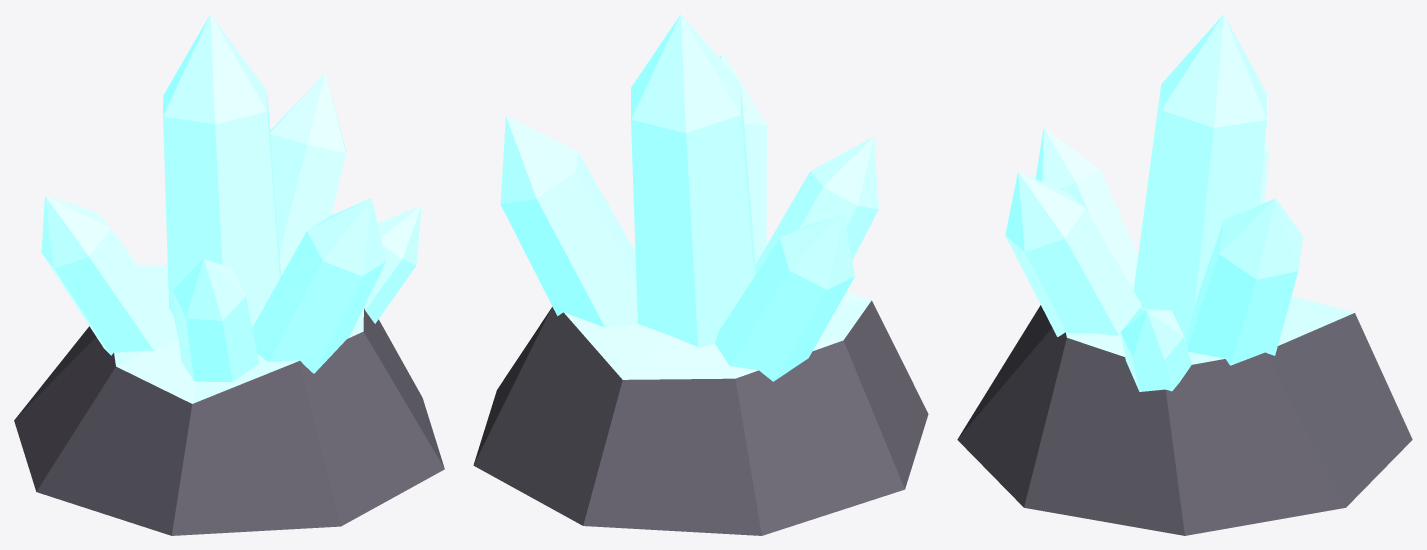
Rendered from relic_shard.glb.
3 views of the same model, side by side, from view 1: azimuth 30°, elevation 25°; view 2: azimuth 150°, elevation 25°; view 3: azimuth 270°, elevation 25° (orthographic). The views are drawn at different scales.
Parts seen in each view (by area): view 1: RelicShard; view 2: RelicShard; view 3: RelicShard.
Part boxes in pixels (bbox=[...]): RelicShard: bbox=[14, 14, 444, 535]; RelicShard: bbox=[473, 14, 928, 535]; RelicShard: bbox=[957, 14, 1412, 535].
Bounding box in the file's own units: 2.8 × 2.89 × 2.8.
